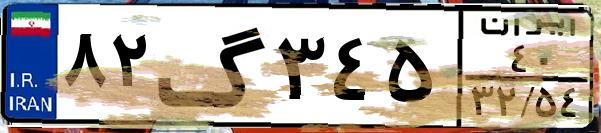0: (537, 27, 568, 80)
2: (110, 28, 156, 98), (495, 70, 520, 125)
3: (270, 28, 330, 110), (470, 70, 495, 125)
4: (330, 28, 385, 110), (560, 70, 590, 125), (508, 27, 537, 80)
5: (385, 28, 445, 110), (535, 70, 560, 125)
8: (57, 26, 110, 100)
گ: (156, 12, 270, 120)
